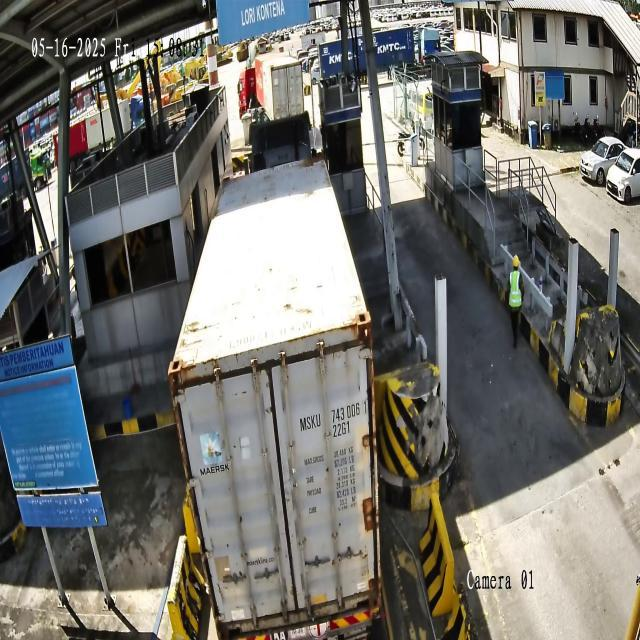ISO: (334, 421, 351, 438)
container_number: (299, 398, 367, 431)
